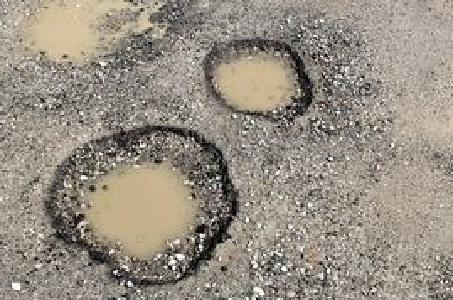pothole: (41, 123, 245, 291), (15, 1, 178, 74), (201, 37, 317, 121)
